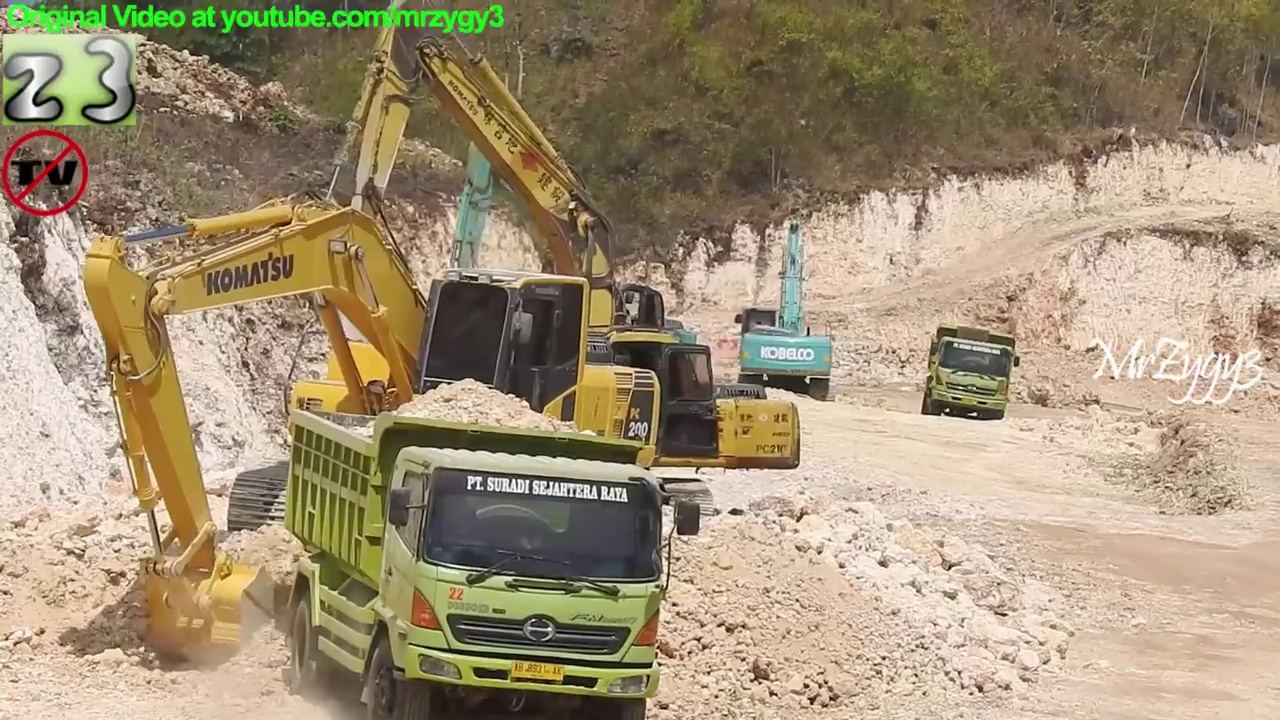excavator: (79, 189, 662, 668), (305, 2, 807, 537), (733, 221, 838, 400)
truck: (281, 405, 704, 720), (920, 320, 1023, 424)
